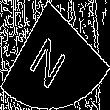N_NE: (32, 23, 78, 87)
